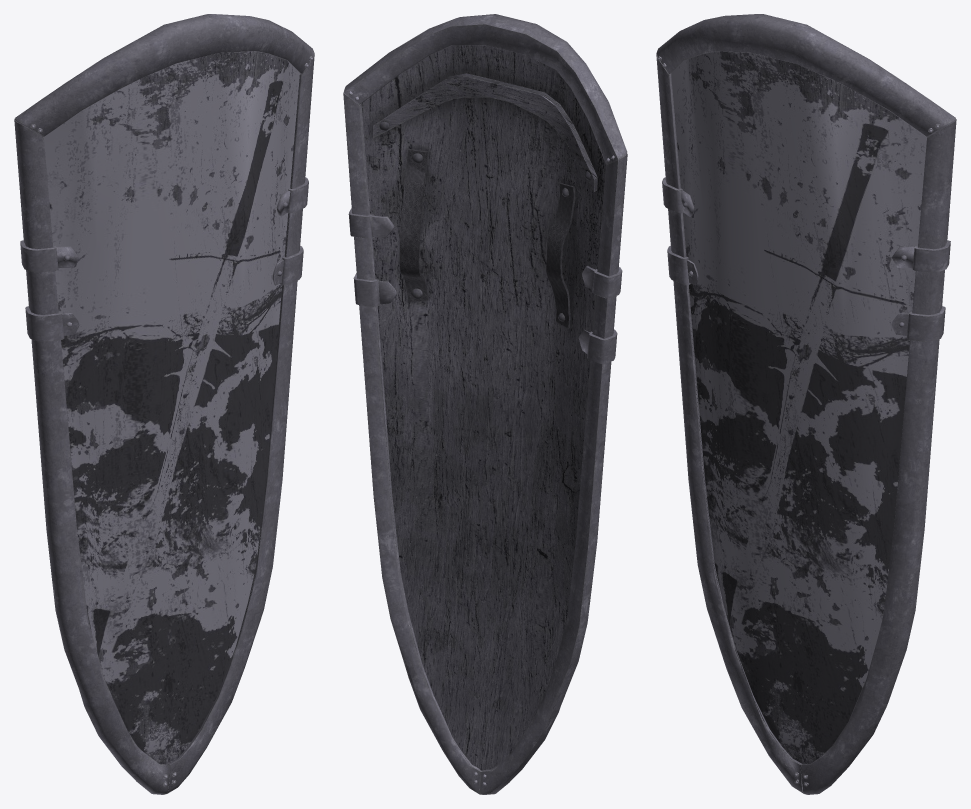
Rendered from ph_shield.gltf.
The picture shows the model from 3 angles, left to right: view 1: azimuth 30°, elevation 25°; view 2: azimuth 150°, elevation 25°; view 3: azimuth 330°, elevation 25°; orthographic projection. The views are drawn at different scales.
Visible parts, largest first — view 1: ph_shield; view 2: ph_shield; view 3: ph_shield.
Part boxes in pixels (x1=…): ph_shield: x1=14, y1=14, x2=314, y2=794; ph_shield: x1=343, y1=14, x2=627, y2=794; ph_shield: x1=656, y1=14, x2=956, y2=794.
Bounding box in the file's own units: 0.5441 × 1.39 × 0.1347.
Materials: 2 (2 with a texture image).
